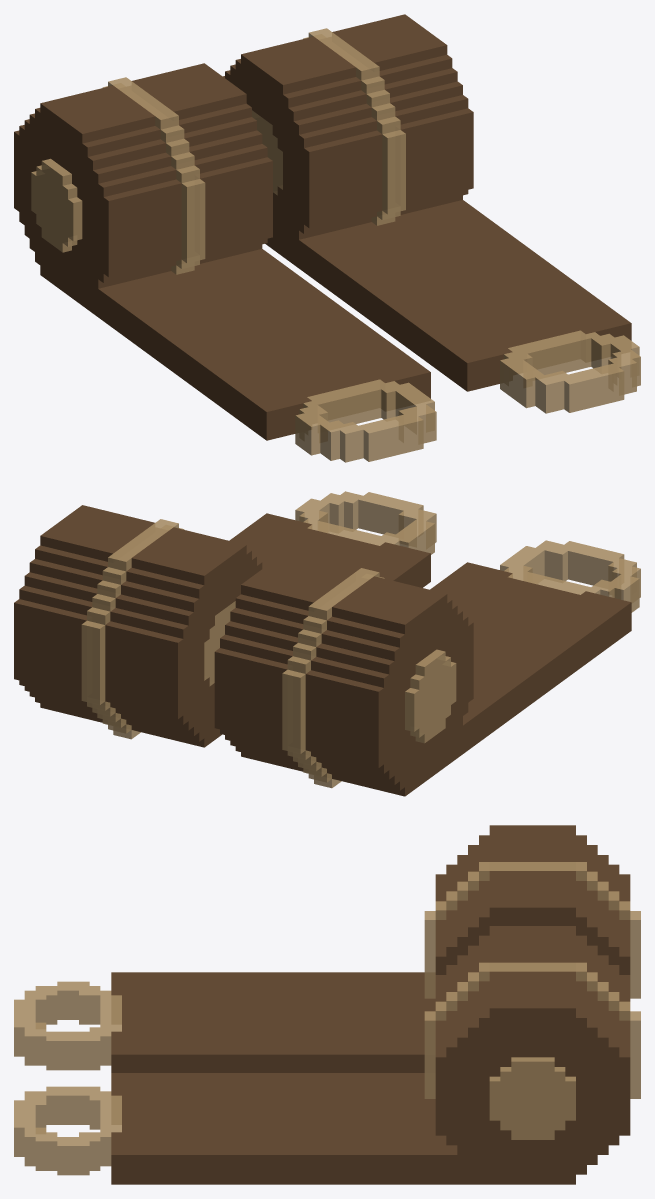
The model's file is gloves_wraps_fur.glb.
3 views of the same model, one above another, from view 1: azimuth 30°, elevation 25°; view 2: azimuth 150°, elevation 25°; view 3: azimuth 270°, elevation 25° (orthographic). The views are drawn at different scales.
Parts seen in each view (by area): view 1: gloves_wraps_fur:compound; view 2: gloves_wraps_fur:compound; view 3: gloves_wraps_fur:compound.
Part boxes in pixels (bbox=[...]): gloves_wraps_fur:compound: bbox=[14, 14, 640, 462]; gloves_wraps_fur:compound: bbox=[14, 491, 640, 796]; gloves_wraps_fur:compound: bbox=[14, 825, 640, 1184].
Bounding box in the file's own units: 0.168 × 0.076 × 0.232.
